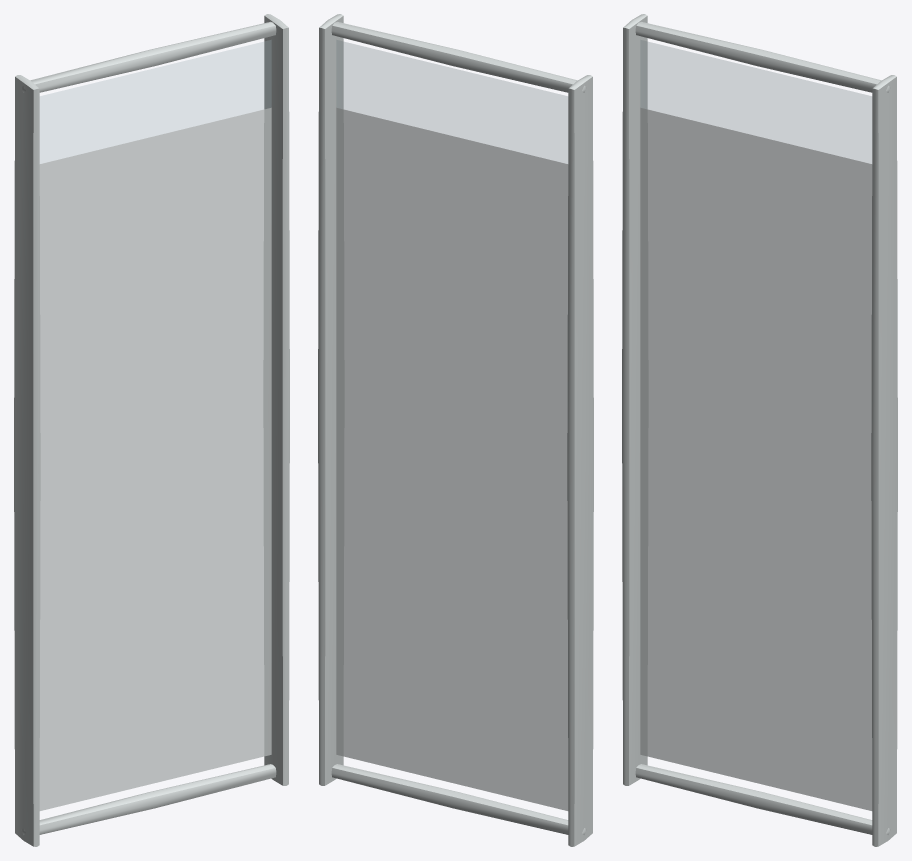
File: glass-wall.glb
The picture shows the model from 3 angles, left to right: view 1: azimuth 30°, elevation 25°; view 2: azimuth 150°, elevation 25°; view 3: azimuth 330°, elevation 25°; orthographic projection.
Parts seen in each view (by area): view 1: frosted-pane, light-frame (×2), clear-strip, slim-rail (×2); view 2: frosted-pane, light-frame (×2), clear-strip, slim-rail (×2); view 3: frosted-pane, light-frame (×2), clear-strip, slim-rail (×2).
Part boxes in pixels (x1,y1,x2,y2): frosted-pane: (39, 107, 271, 810); light-frame (×2): (14, 14, 289, 846); clear-strip: (40, 40, 271, 163); slim-rail (×2): (21, 21, 276, 834); frosted-pane: (336, 107, 568, 810); light-frame (×2): (318, 14, 593, 846); clear-strip: (336, 40, 567, 163); slim-rail (×2): (331, 22, 586, 834); frosted-pane: (640, 107, 872, 810); light-frame (×2): (622, 14, 897, 846); clear-strip: (640, 40, 871, 163); slim-rail (×2): (635, 22, 890, 834).
Size of the model in its own units: 1 by 2.8 by 0.14.
Materials: 1 (1 with a texture image).
